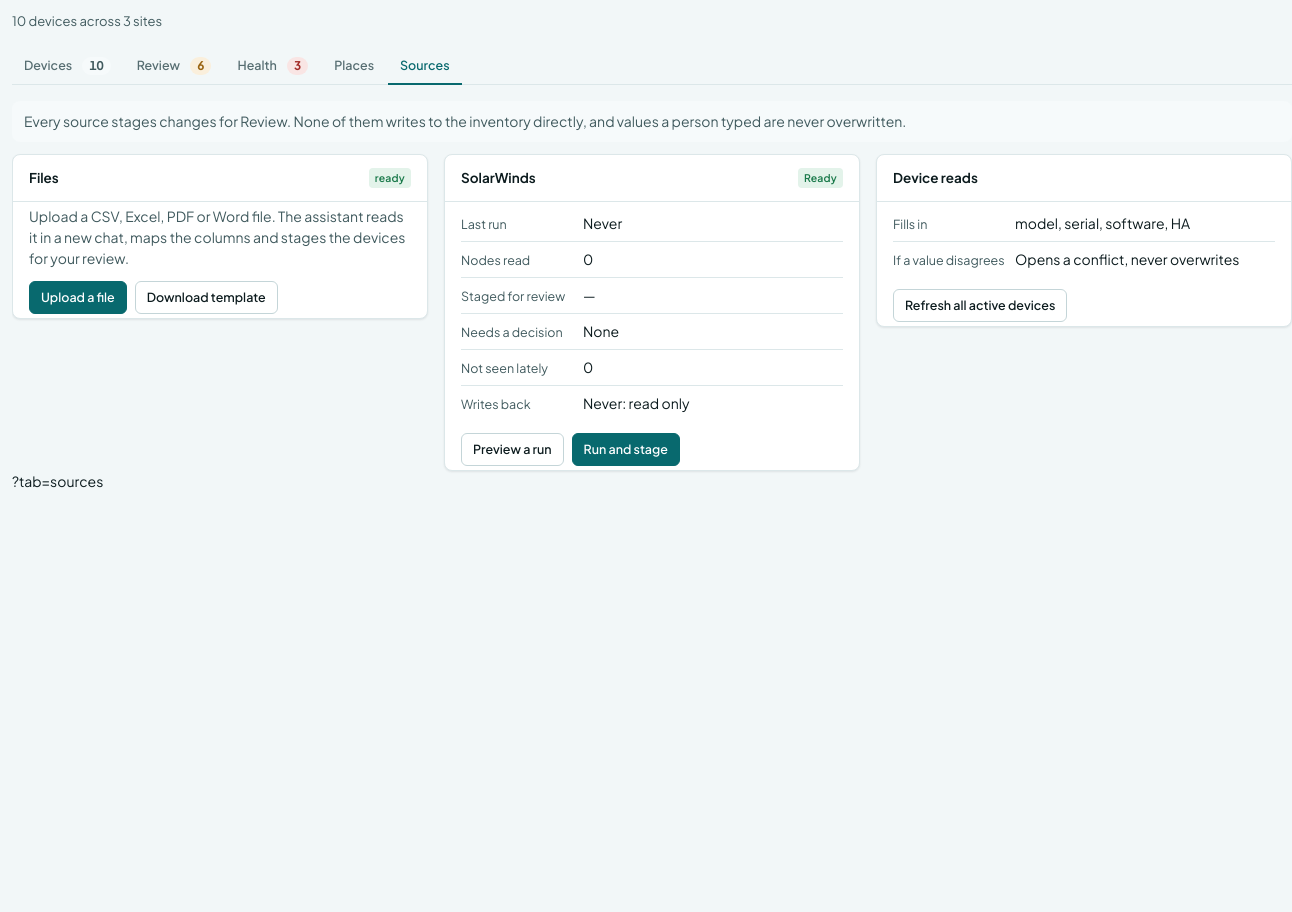
Test: Sources tab › Preview posts dry_run true and shows needs_review + missing_columns
Expected: the element with test id "sources-panel" is shown, x1=12 y1=100 x2=1291 y2=470
Click the button with test id "solarwinds-dry-run" at x=512, y=449, box x1=461 y1=433 x2=564 y2=466
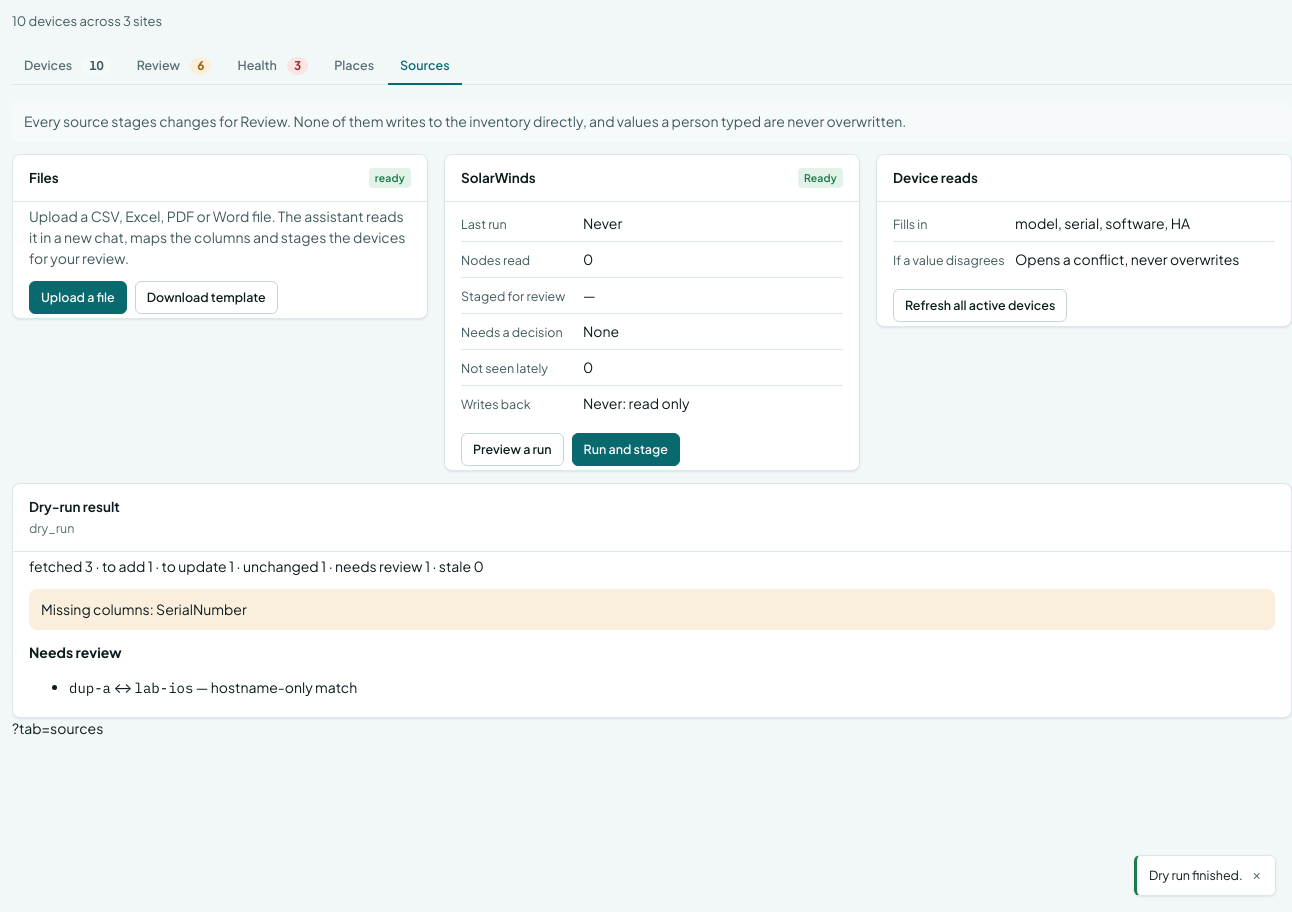
Expected: the element with test id "needs-review-list" is shown, x1=29 y1=642 x2=357 y2=696
Expected: the element with test id "needs-review-list" shows "dup-a", x1=69 y1=678 x2=111 y2=696
Expected: the element with test id "needs-review-list" shows "lab-ios", x1=134 y1=678 x2=193 y2=696
